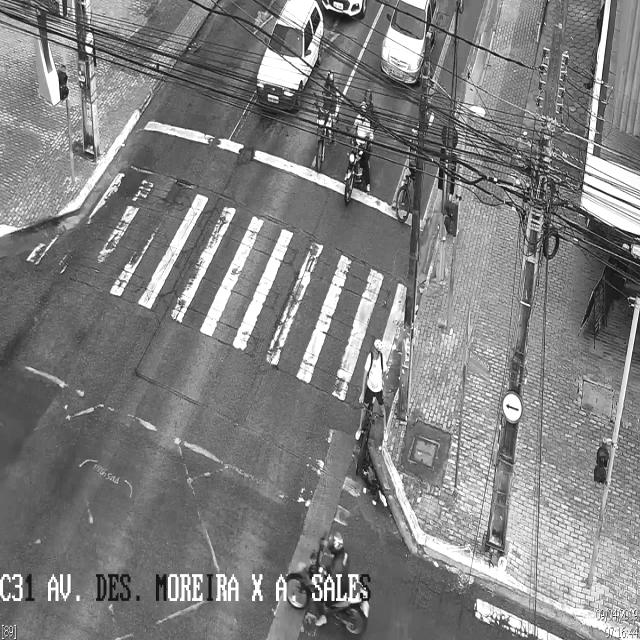Car: (255, 2, 323, 114), (381, 4, 438, 87)
Motorcycle: (286, 530, 371, 633), (344, 87, 374, 206), (314, 70, 340, 174), (397, 137, 422, 225)
